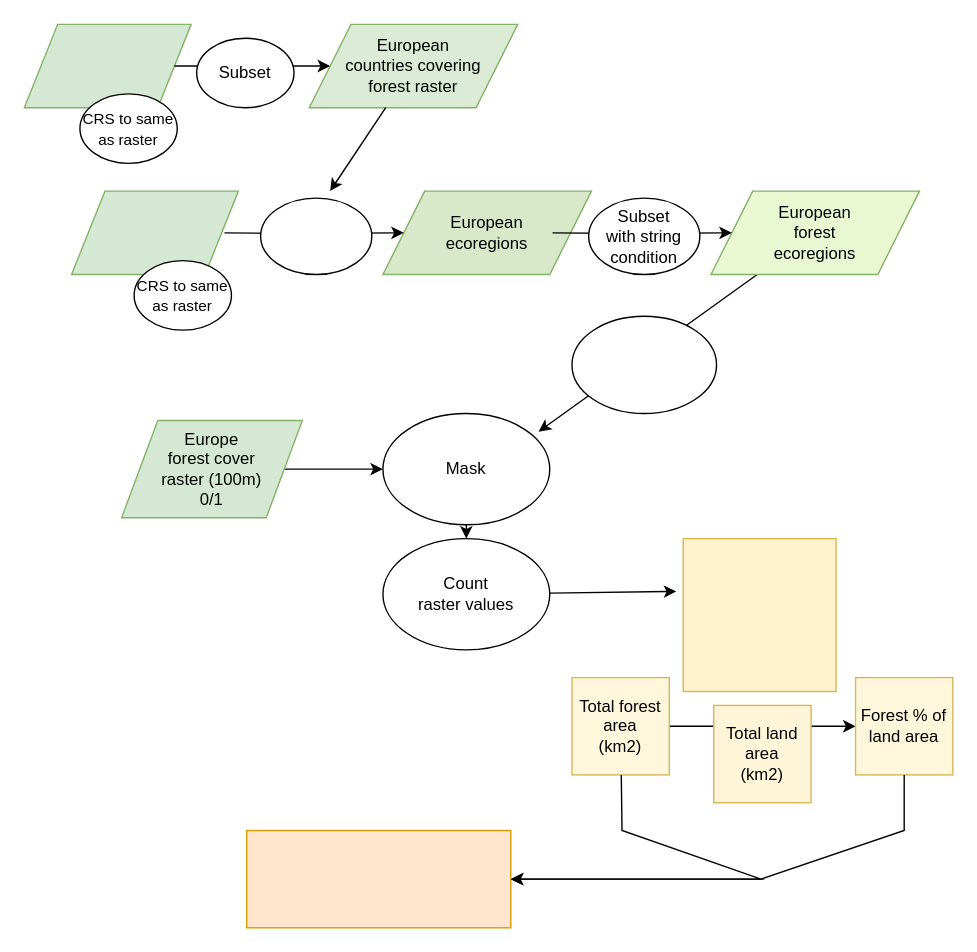
This 977x952 diagram has some shape labels left out. Each missing label, with the box of its shape:
Forest area statistics per ecoregion: (682, 537, 836, 692)
Iterate over each ecoregion: (571, 315, 717, 414)
Maps and graphs: Forest area in European forest ecoregions: (245, 829, 511, 928)
Subset with spatial overlay: (259, 197, 372, 275)
World countries: (23, 23, 191, 108)
World ecoregions: (70, 190, 238, 275)
